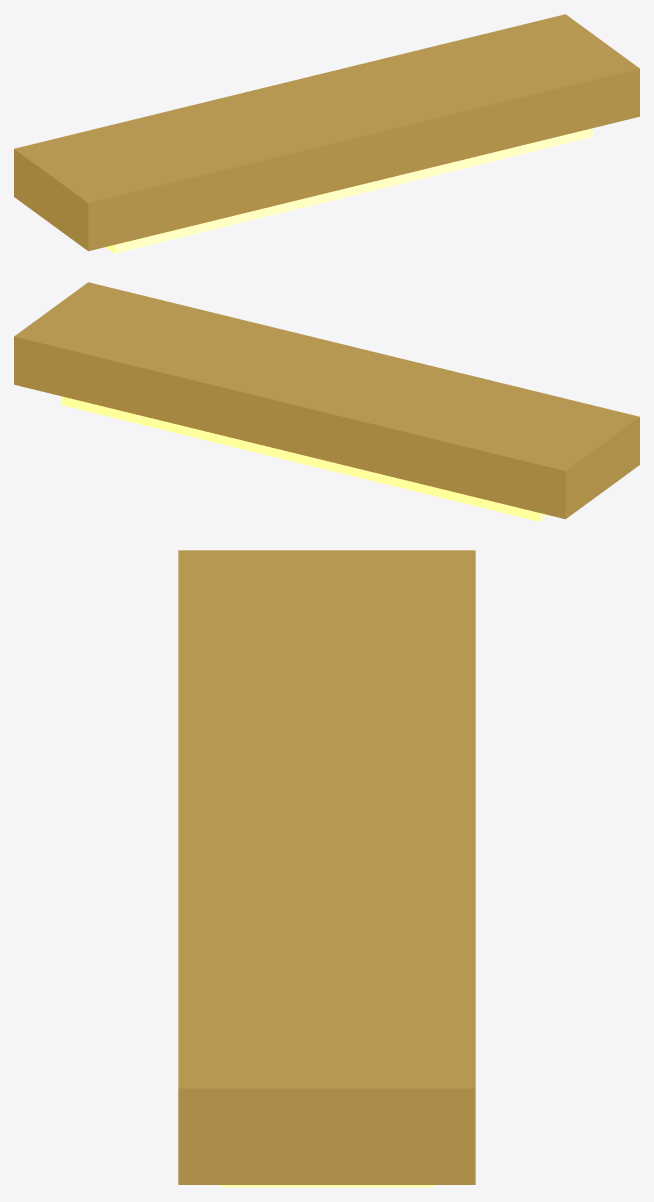
The model's file is lamp-bar.glb.
The picture shows the model from 3 angles, top to bottom: view 1: azimuth 30°, elevation 25°; view 2: azimuth 150°, elevation 25°; view 3: azimuth 270°, elevation 25°; orthographic projection. The views are drawn at different scales.
Parts seen in each view (by area): view 1: lamp-bar; view 2: lamp-bar; view 3: lamp-bar.
Boxes of the visible parts, <box> form: lamp-bar: <box>14,14,639,253</box>; lamp-bar: <box>14,282,639,521</box>; lamp-bar: <box>178,550,475,1187</box>.
Size of the model in its own units: 0.6 by 0.07 by 0.14.
